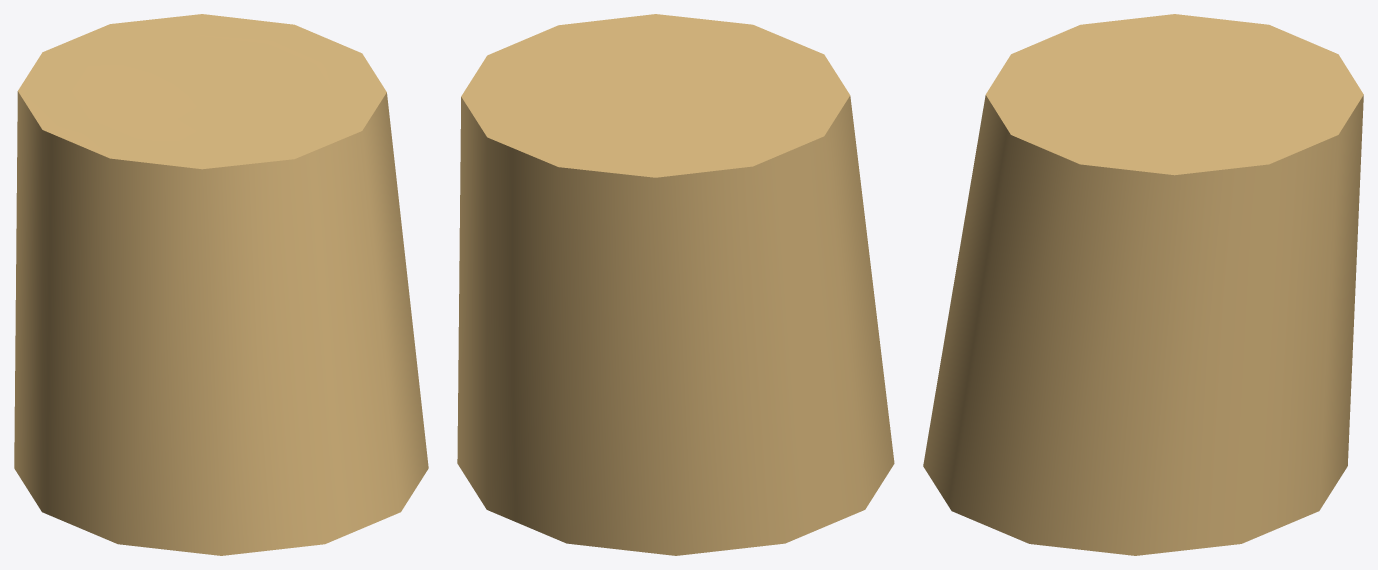
The model's file is DryTree_lvl_1.fbx.
3 renders of one model, left to right at view 1: azimuth 30°, elevation 25°; view 2: azimuth 150°, elevation 25°; view 3: azimuth 270°, elevation 25°, orthographic. The views are drawn at different scales.
Visible parts, largest first — view 1: tree_4.012; view 2: tree_4.012; view 3: tree_4.012.
Part boxes in pixels (x1,y1,x2,y2): tree_4.012: (14,14,428,555); tree_4.012: (457,14,894,555); tree_4.012: (923,14,1363,555).
Bounding box in the file's own units: 30.61 × 29.61 × 31.76.
